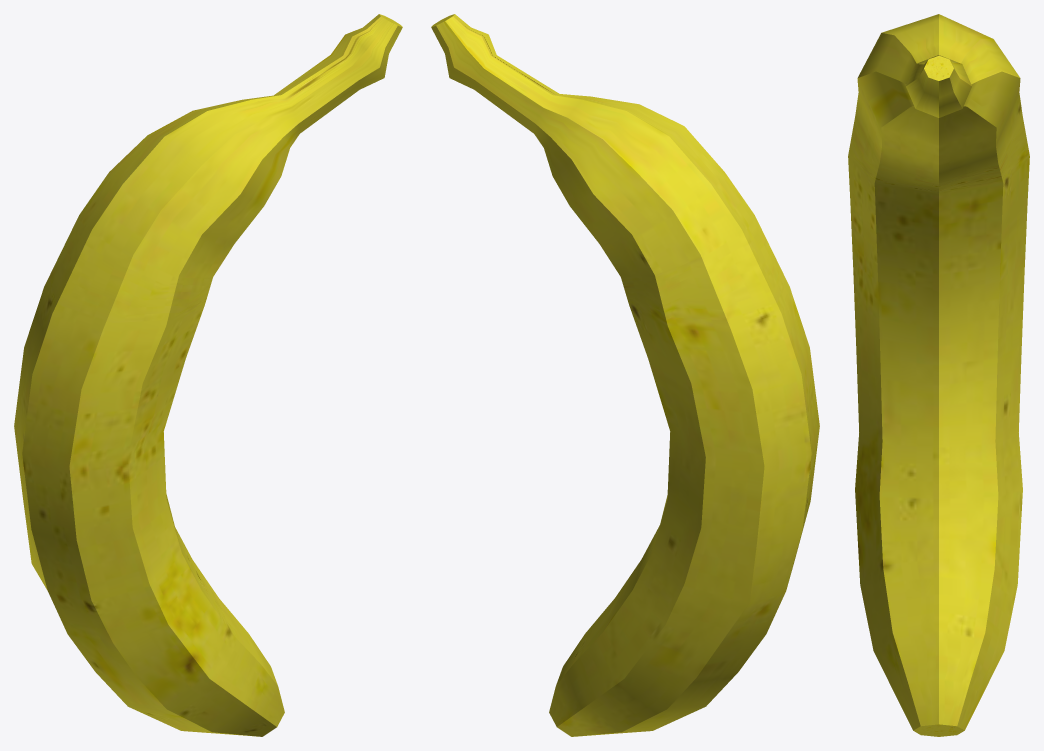
The model's file is banana.Unity.fbx.
The picture shows the model from 3 angles, left to right: view 1: azimuth 30°, elevation 25°; view 2: azimuth 150°, elevation 25°; view 3: azimuth 270°, elevation 25°; orthographic projection. The views are drawn at different scales.
Parts seen in each view (by area): view 1: pCylinder1; view 2: pCylinder1; view 3: pCylinder1.
Part boxes in pixels (<box>): pCylinder1: <box>14,14,402,736</box>; pCylinder1: <box>431,14,819,736</box>; pCylinder1: <box>848,14,1029,736</box>.
Size of the model in its own units: 9.04 by 15.69 by 3.44.
Materials: 1 (1 with a texture image).
